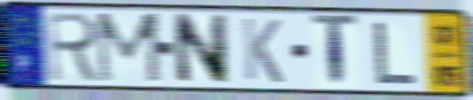K: (239, 15, 286, 86)
L: (373, 19, 420, 86)
M: (94, 11, 166, 86)
N: (170, 11, 231, 87)
R: (46, 10, 104, 85)
T: (309, 12, 360, 91)
